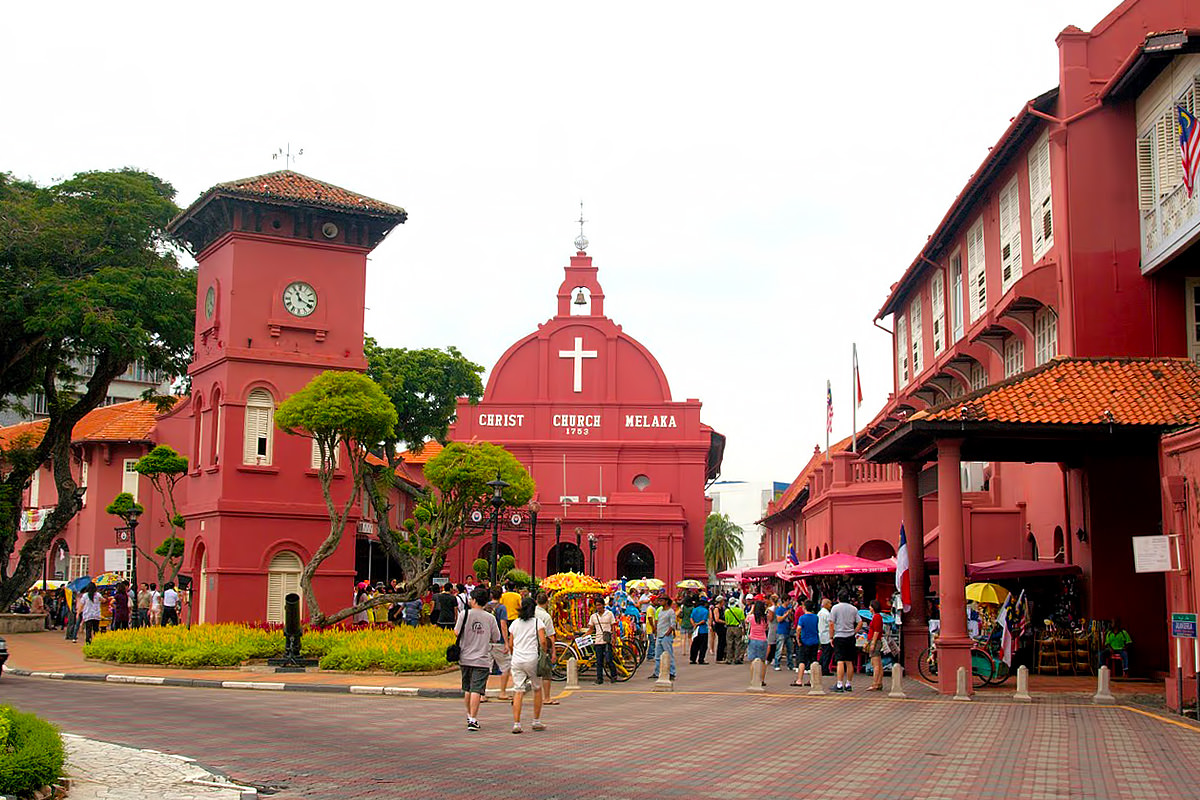Church: (422, 223, 695, 573)
